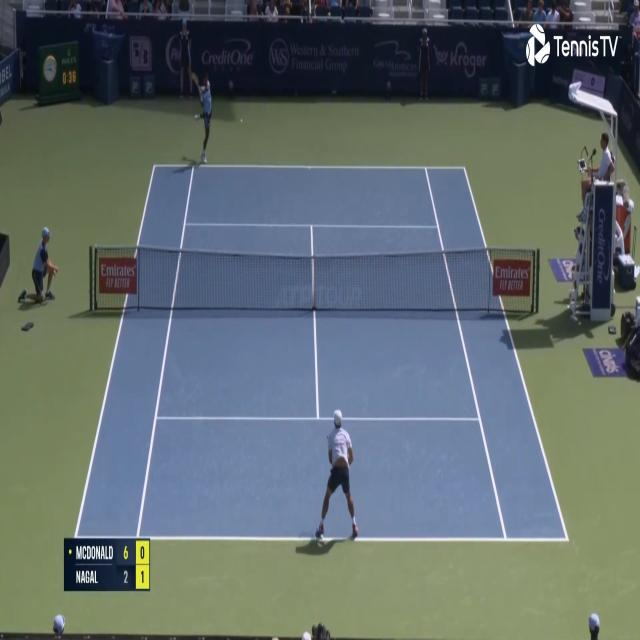tennis-player: (312, 405, 360, 553), (192, 70, 214, 163)
